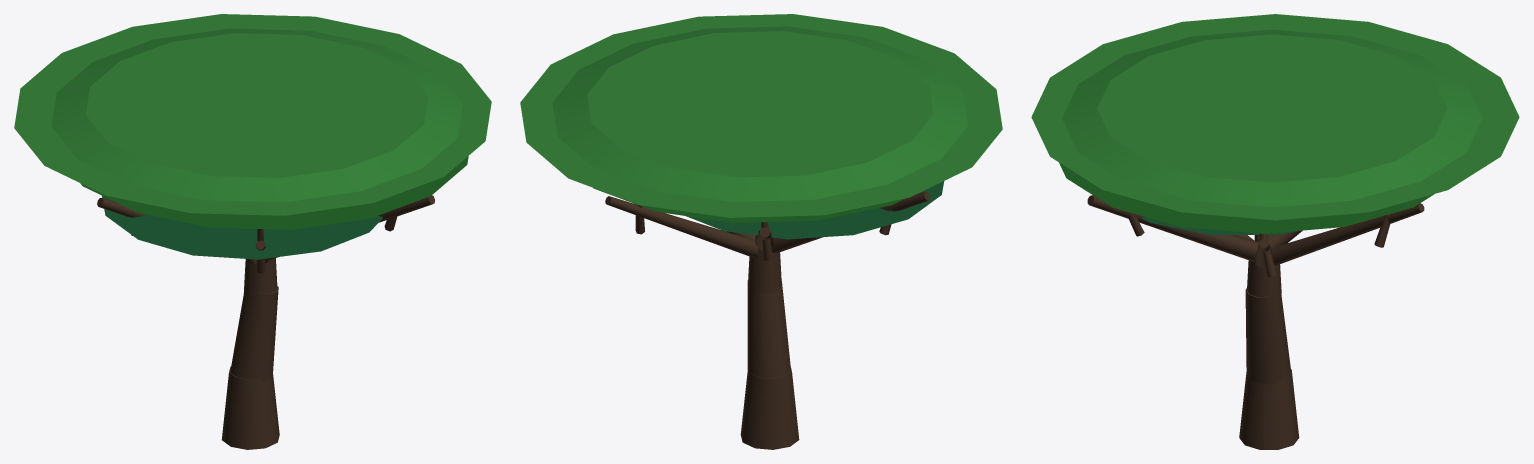
File: env_acacia_tree_01.glb
The picture shows the model from 3 angles, left to right: view 1: azimuth 30°, elevation 25°; view 2: azimuth 150°, elevation 25°; view 3: azimuth 270°, elevation 25°; orthographic projection.
Parts seen in each view (by area): view 1: Acacia_Umbrella_Tree_HighFi, Acacia_BranchArm_1; view 2: Acacia_Umbrella_Tree_HighFi, Acacia_BranchArm_5, Acacia_BranchArm_3; view 3: Acacia_Umbrella_Tree_HighFi, Acacia_BranchArm_5, Acacia_BranchArm_1.
Boxes of the visible parts, x1,y1,x2,y2 form: Acacia_Umbrella_Tree_HighFi: (14, 14, 491, 449); Acacia_BranchArm_1: (269, 195, 434, 259); Acacia_Umbrella_Tree_HighFi: (520, 14, 1002, 449); Acacia_BranchArm_5: (605, 196, 758, 258); Acacia_BranchArm_3: (771, 191, 930, 252); Acacia_Umbrella_Tree_HighFi: (1031, 14, 1519, 449); Acacia_BranchArm_5: (1271, 203, 1424, 265); Acacia_BranchArm_1: (1087, 195, 1259, 261).
Size of the model in its own units: 7.8 by 5.88 by 7.8.
